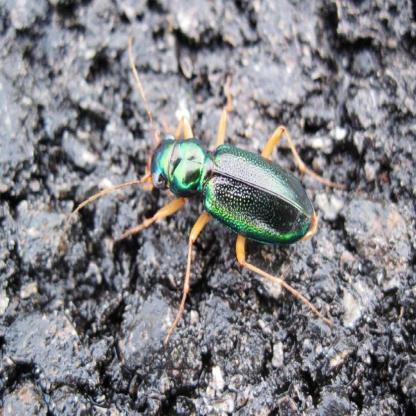beetle: (124, 91, 341, 320)
